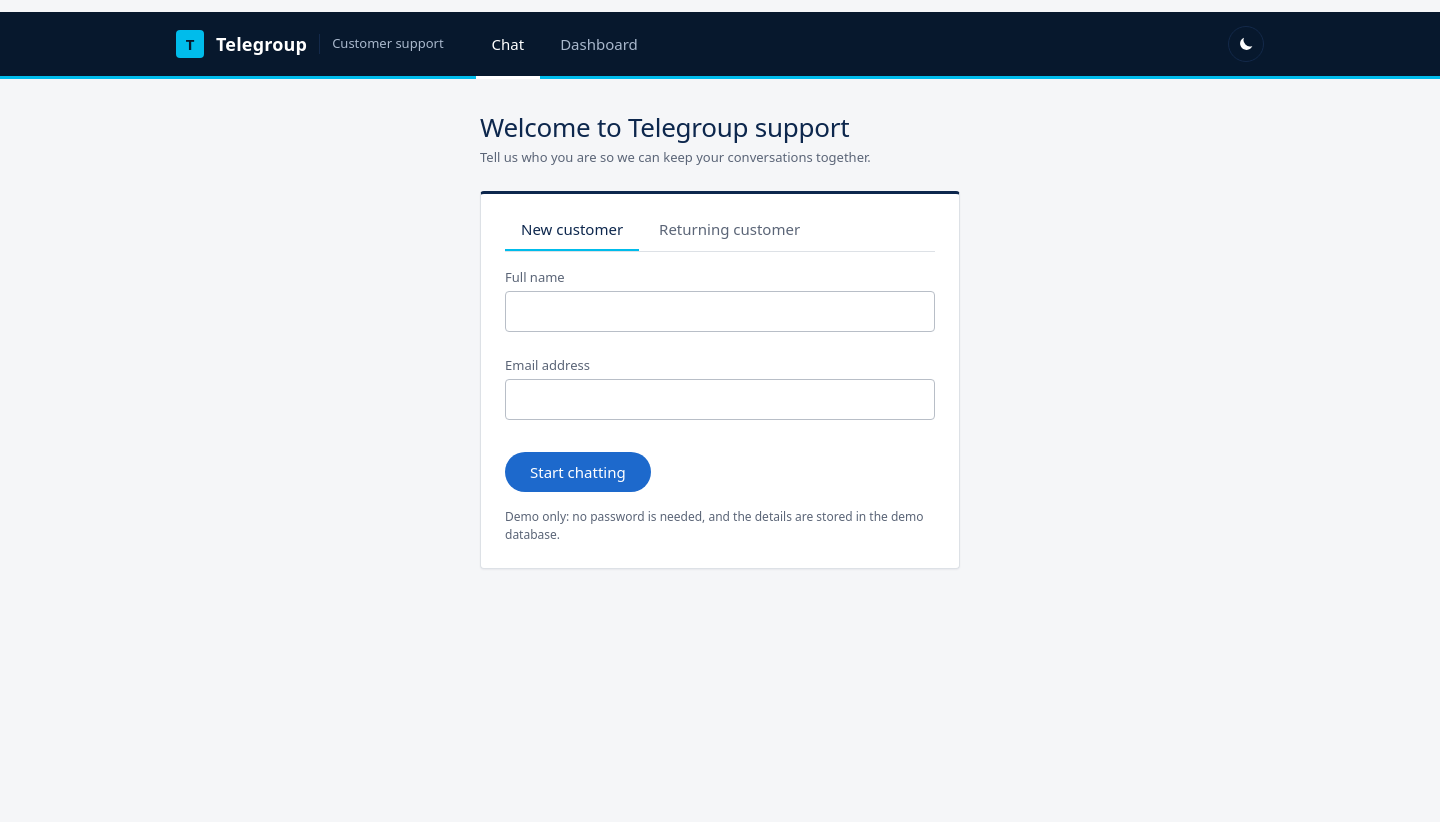
Scenario: App shell › goes back to the customer choice on "Switch customer"
In the field labelled "Full name": (720, 311) x1=505 y1=291 x2=935 y2=332, type "Jane Doe"
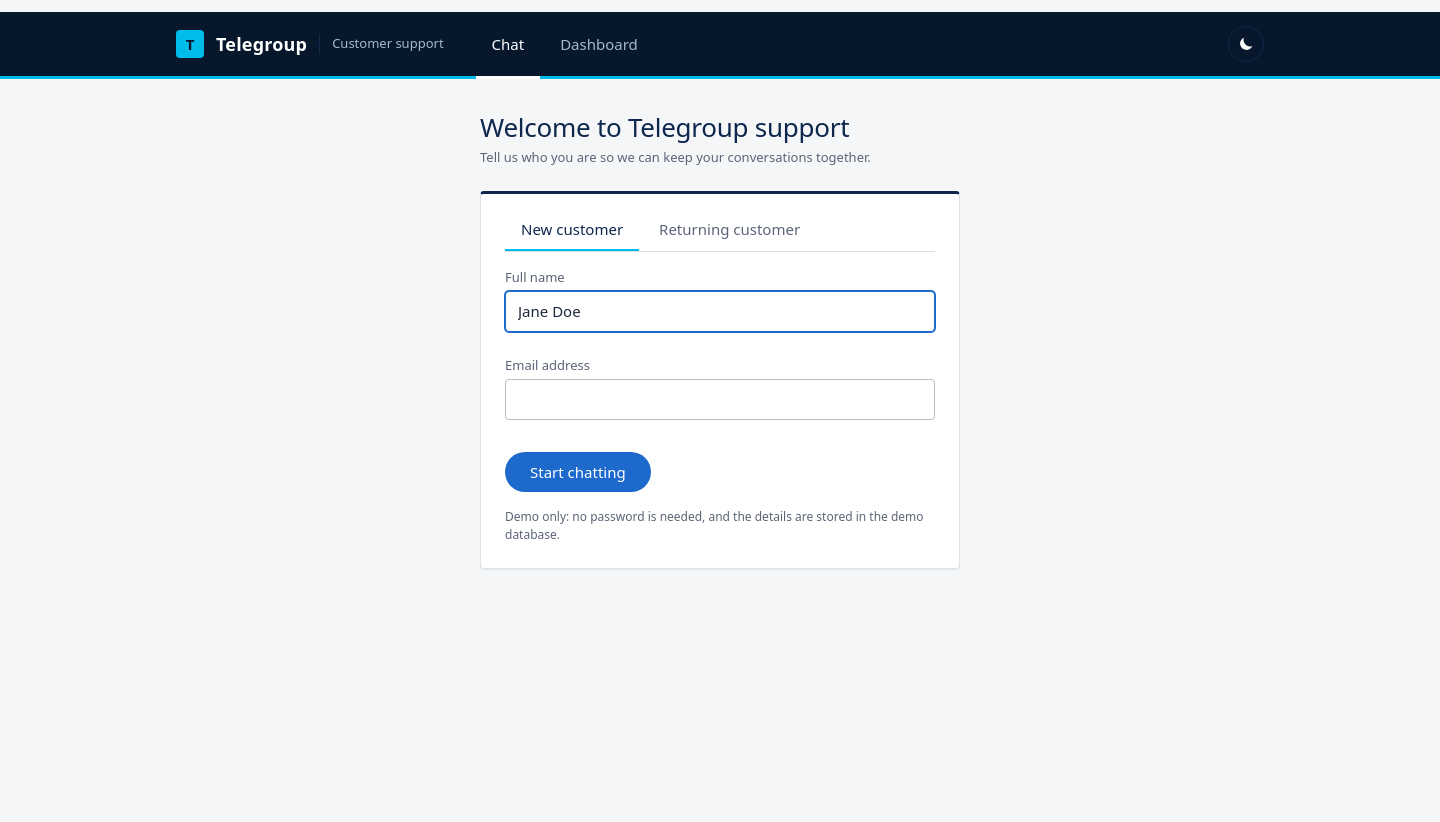
In the field labelled "Email address": (720, 399) x1=505 y1=379 x2=935 y2=420, type "jane@example.com"
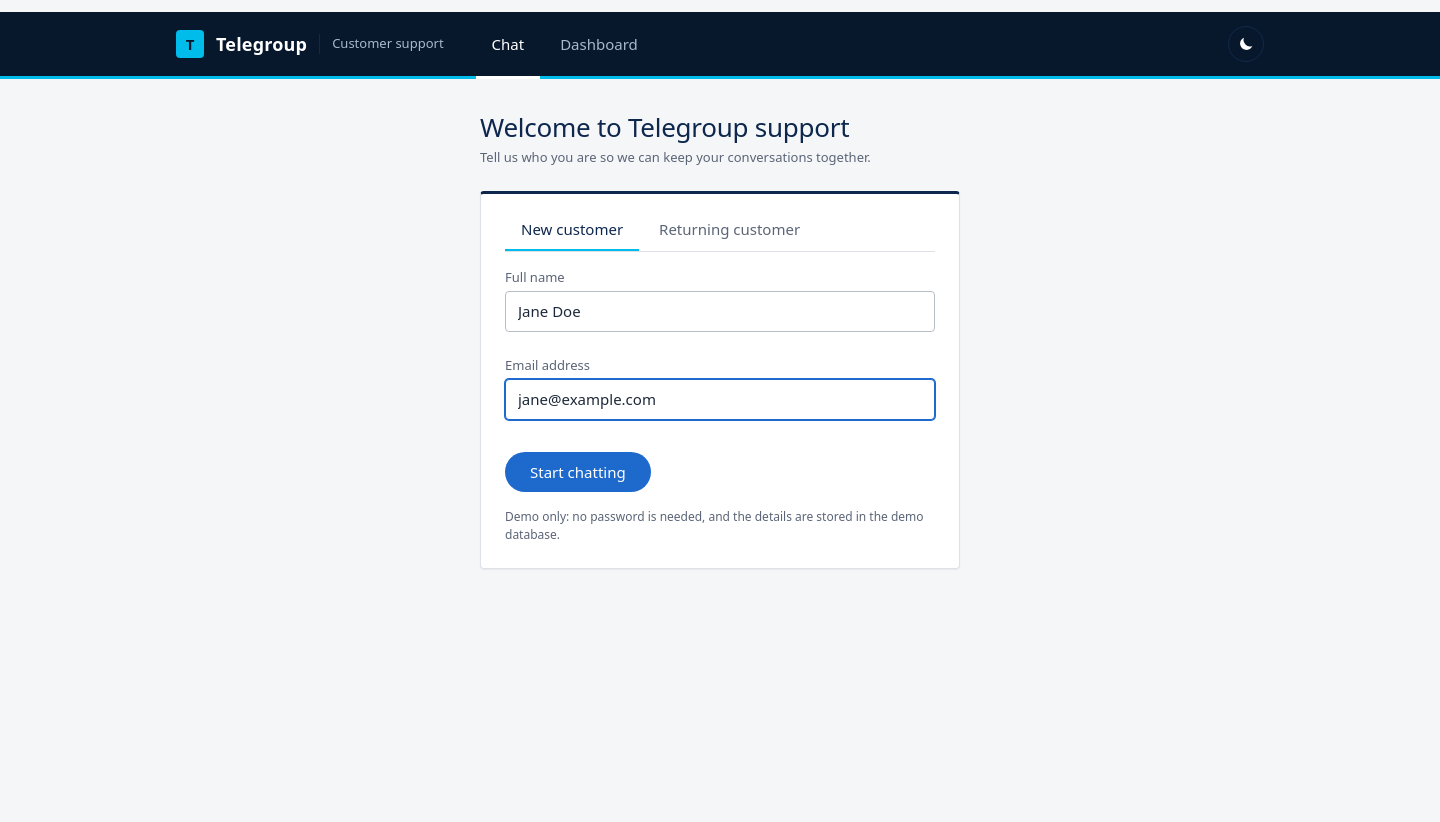
Click the button "Start chatting": (578, 472) x1=505 y1=452 x2=651 y2=492
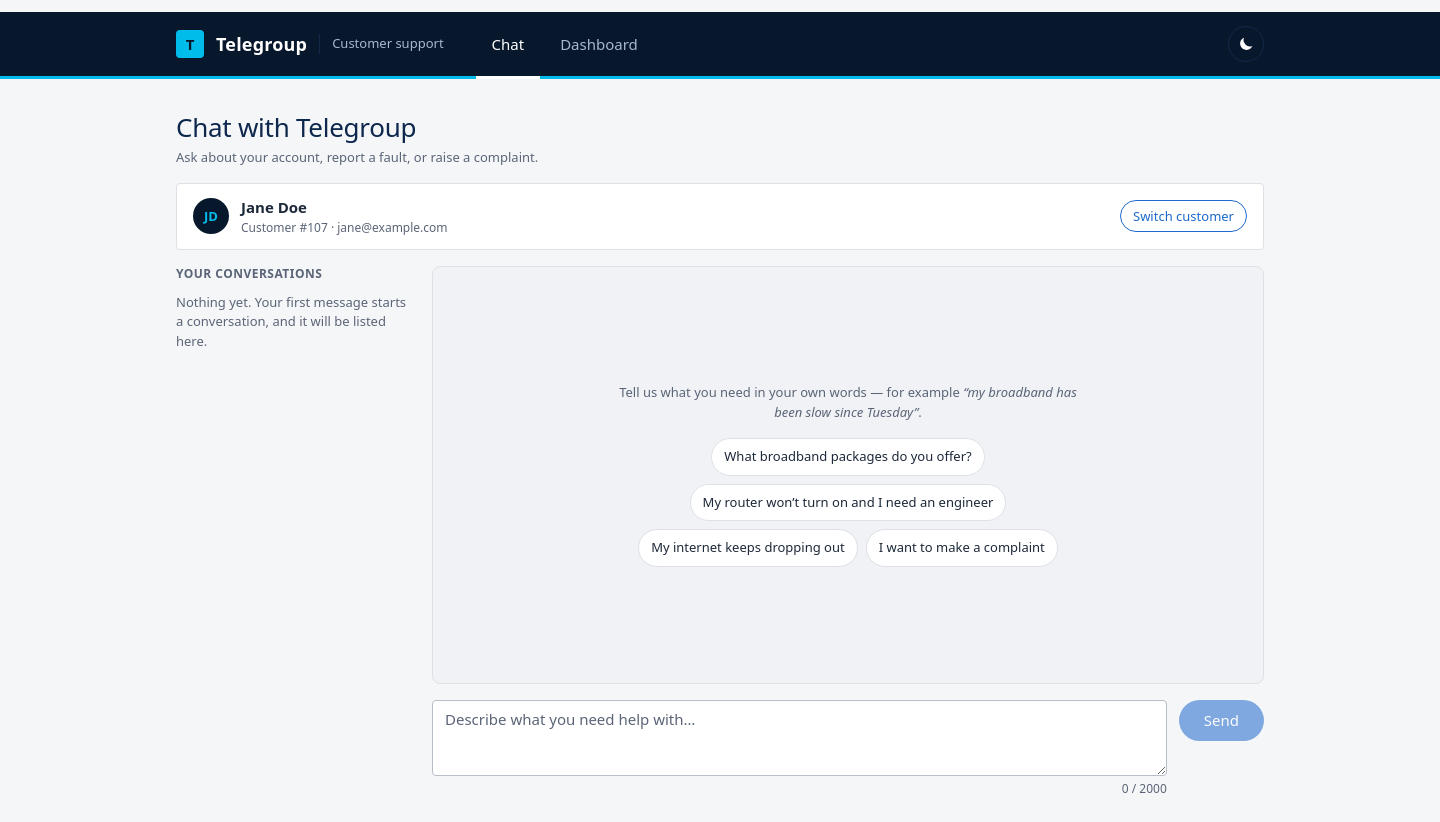
Check: the heading "Chat with Telegroup" is shown, box x1=176 y1=109 x2=416 y2=145
Click the button "Switch customer": (1184, 216) x1=1120 y1=200 x2=1247 y2=232
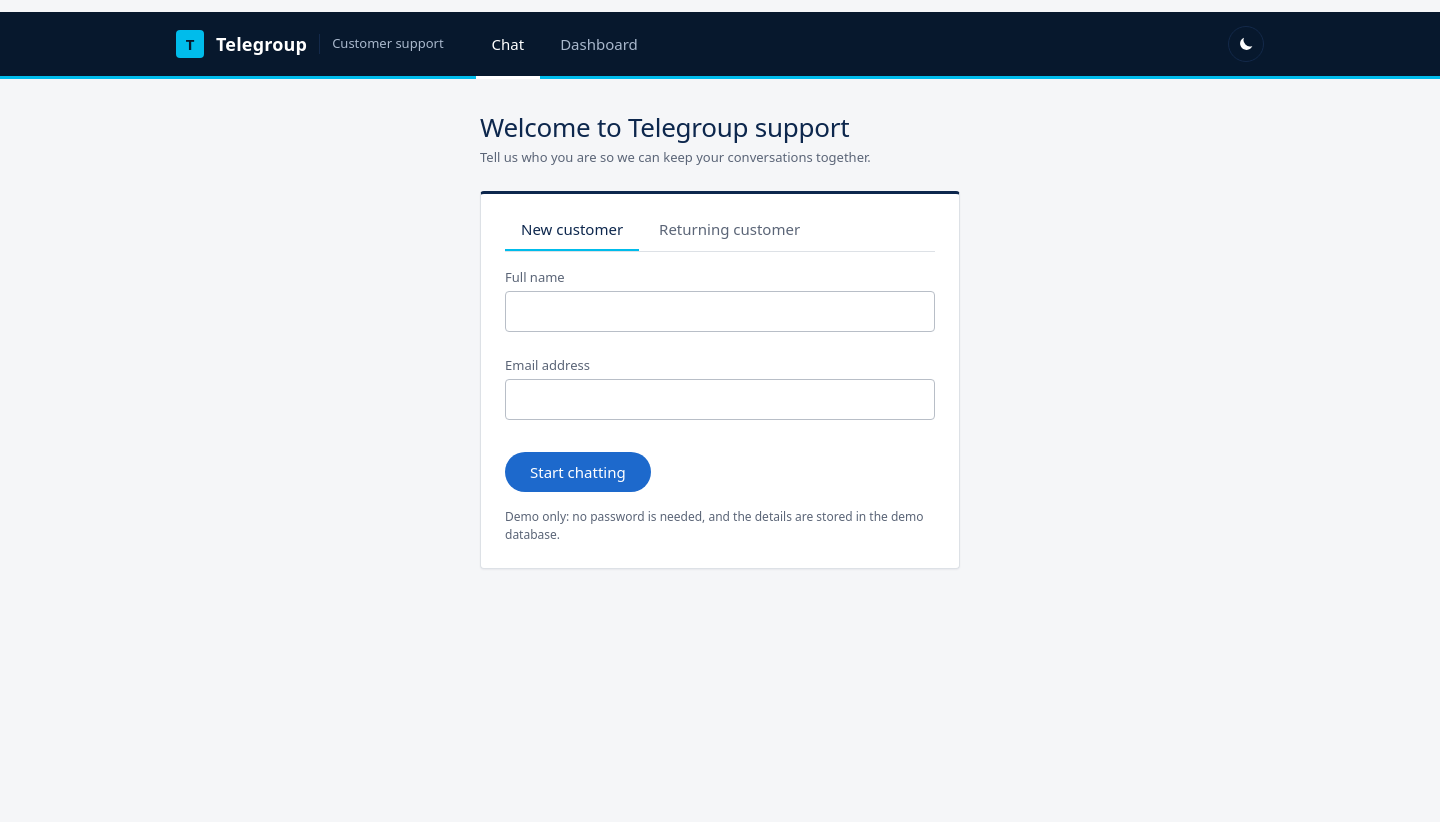
Check: the heading "Welcome to Telegroup support" is shown, box x1=480 y1=109 x2=849 y2=145
